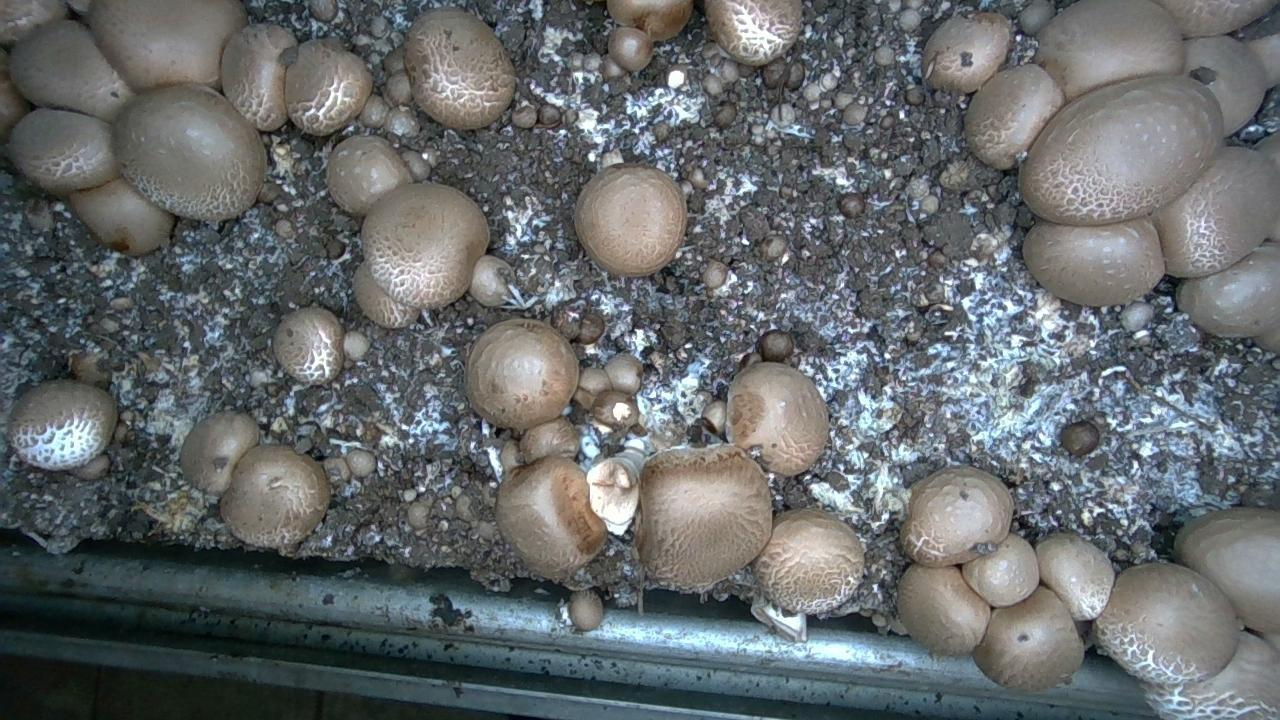BB: (1019, 76, 1222, 225), (112, 84, 265, 220), (635, 444, 771, 589), (1094, 563, 1238, 686), (1151, 147, 1279, 277), (361, 184, 488, 308), (1034, 0, 1183, 99), (88, 0, 247, 91), (495, 456, 607, 579), (405, 8, 515, 128), (1174, 508, 1279, 632), (574, 163, 686, 276), (466, 318, 578, 430), (10, 20, 133, 121), (1023, 217, 1164, 305), (1142, 631, 1279, 719), (220, 445, 329, 552), (726, 362, 828, 476), (973, 586, 1083, 691), (754, 509, 863, 613), (900, 467, 1012, 567), (964, 64, 1063, 169), (8, 380, 117, 470), (8, 108, 119, 196), (1176, 243, 1279, 337), (897, 564, 990, 655), (285, 39, 371, 135), (1184, 36, 1266, 135), (69, 178, 174, 255), (221, 24, 296, 130), (922, 12, 1010, 93), (1035, 532, 1114, 620), (326, 136, 411, 215), (180, 411, 259, 495), (705, 0, 802, 66), (962, 534, 1038, 606), (273, 307, 344, 384), (1154, 0, 1279, 37), (353, 262, 419, 328), (607, 0, 692, 41), (520, 416, 578, 462), (469, 255, 513, 306), (608, 27, 652, 71), (1247, 33, 1279, 87), (604, 352, 642, 394), (568, 590, 603, 631), (1061, 421, 1099, 456), (759, 330, 793, 362), (71, 453, 110, 480), (1119, 301, 1153, 331), (359, 95, 388, 127), (401, 150, 430, 181), (762, 59, 788, 88), (839, 193, 865, 217), (537, 104, 562, 127), (842, 103, 866, 124)
